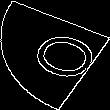O_SE: (11, 24, 99, 86)
